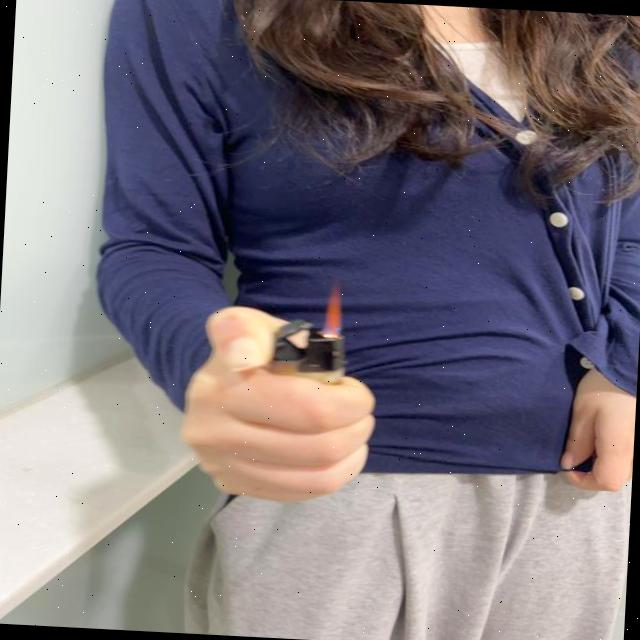fire: (326, 284, 345, 338)
